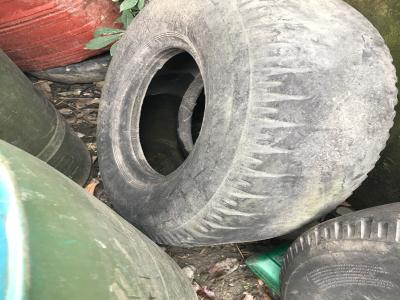tire: (93, 1, 398, 250)
